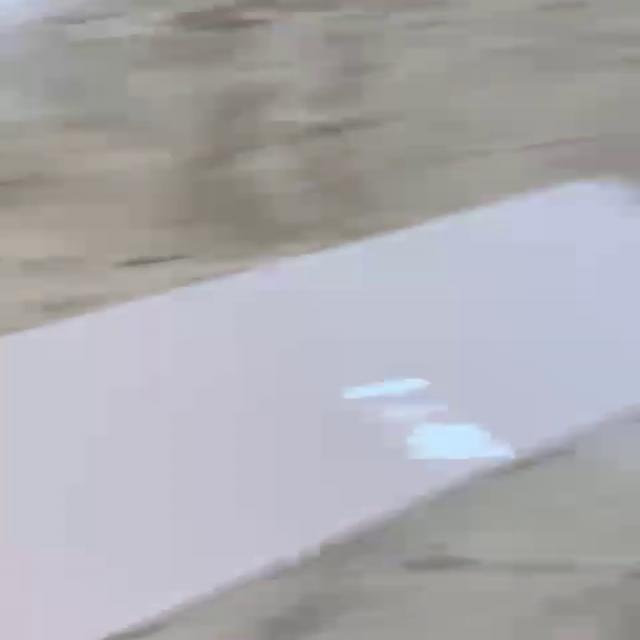road: (0, 179, 640, 640)
